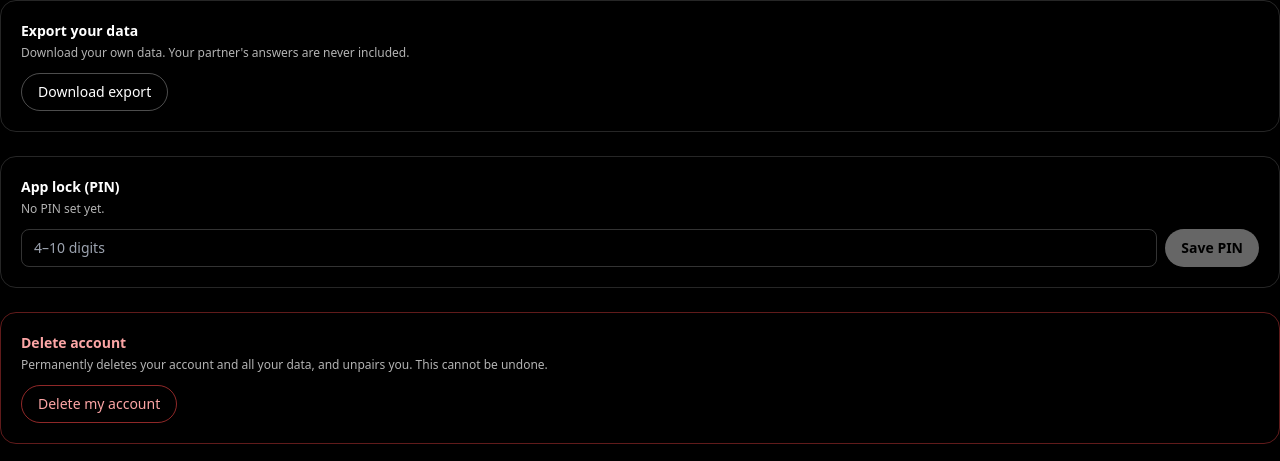
Test: PrivacyPanel › requires a confirm step before deleting
Expected: the link "Download export" is shown, [21,73,168,111]
Click the button "Delete my account" at {"x": 99, "y": 404}, box [21,385,177,423]
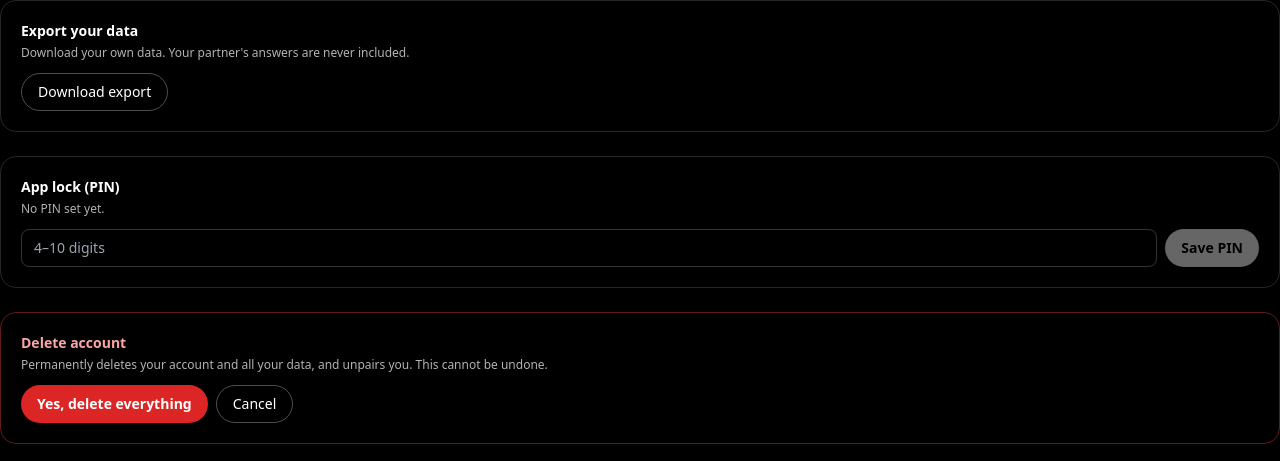
Click the button "Yes, delete everything" at {"x": 114, "y": 404}, box [21,385,208,423]
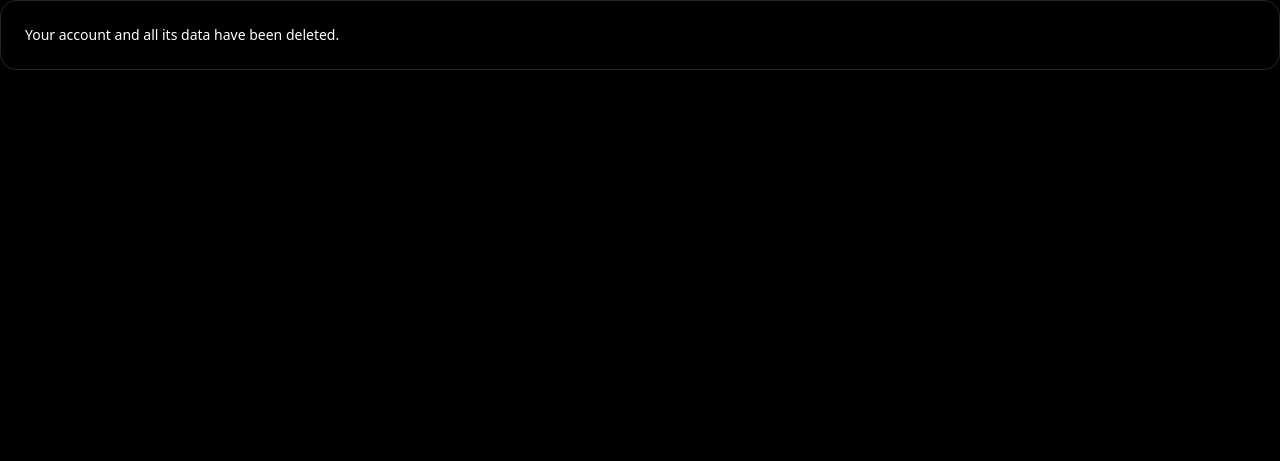
Now the text "Your account and all its data have been deleted." is shown, box [0,0,1279,70]
